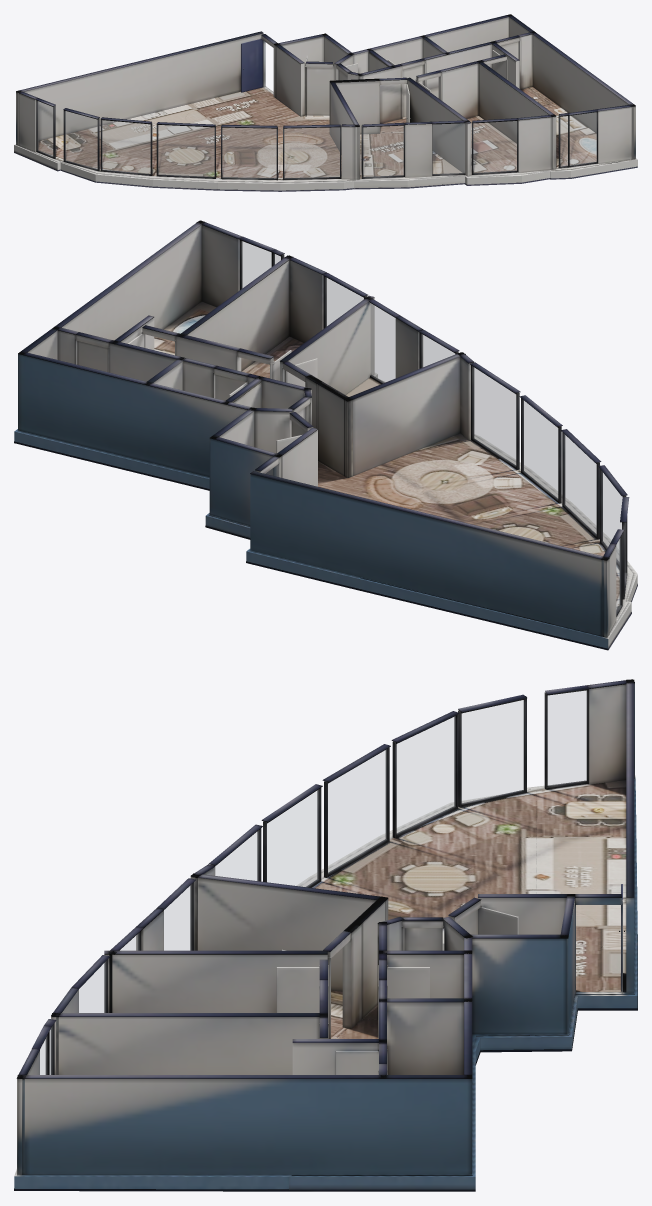
3 views of the same model, one above another, from view 1: azimuth 30°, elevation 25°; view 2: azimuth 150°, elevation 25°; view 3: azimuth 270°, elevation 25° (orthographic). The views are drawn at different scales.
Visible parts, largest first — view 1: plan, glass3_m, glass5_m, glass4_m, glass2_m, glass8_m, glass6_m, glass1_m, glass7_m, glass9_m, glass0_m, glass10_m; view 2: plan, glass5_m, glass4_m, glass3_m, glass7_m, glass2_m, glass8_m, glass9_m; view 3: plan, glass1_m, glass2_m, glass3_m, glass4_m, glass0_m, glass6_m, glass5_m, glass8_m.
Boxes of the visible parts, x1=… form: plan: x1=14, y1=14, x2=637, y2=191; glass3_m: x1=158, y1=125, x2=214, y2=176; glass5_m: x1=284, y1=127, x2=339, y2=178; glass4_m: x1=222, y1=128, x2=276, y2=178; glass2_m: x1=102, y1=120, x2=150, y2=173; glass8_m: x1=473, y1=121, x2=516, y2=173; glass6_m: x1=363, y1=126, x2=403, y2=176; glass1_m: x1=65, y1=111, x2=97, y2=168; glass7_m: x1=433, y1=123, x2=464, y2=174; glass9_m: x1=570, y1=112, x2=596, y2=165; glass0_m: x1=37, y1=101, x2=52, y2=156; glass10_m: x1=560, y1=116, x2=567, y2=166; plan: x1=14, y1=220, x2=637, y2=650; glass5_m: x1=473, y1=367, x2=515, y2=465; glass4_m: x1=523, y1=400, x2=557, y2=498; glass3_m: x1=564, y1=434, x2=596, y2=534; glass7_m: x1=371, y1=304, x2=395, y2=382; glass2_m: x1=602, y1=472, x2=622, y2=561; glass8_m: x1=326, y1=277, x2=363, y2=326; glass9_m: x1=241, y1=241, x2=271, y2=288; plan: x1=14, y1=679, x2=637, y2=1191; glass1_m: x1=462, y1=700, x2=523, y2=803; glass2_m: x1=397, y1=716, x2=455, y2=833; glass3_m: x1=328, y1=750, x2=386, y2=873; glass4_m: x1=267, y1=790, x2=318, y2=886; glass0_m: x1=548, y1=690, x2=586, y2=785; glass6_m: x1=164, y1=885, x2=191, y2=950; glass5_m: x1=215, y1=831, x2=258, y2=880; glass8_m: x1=79, y1=962, x2=105, y2=1012.
Size of the model in its own units: 20.25 by 2.62 by 13.29.
Materials: 2 (1 with a texture image).
